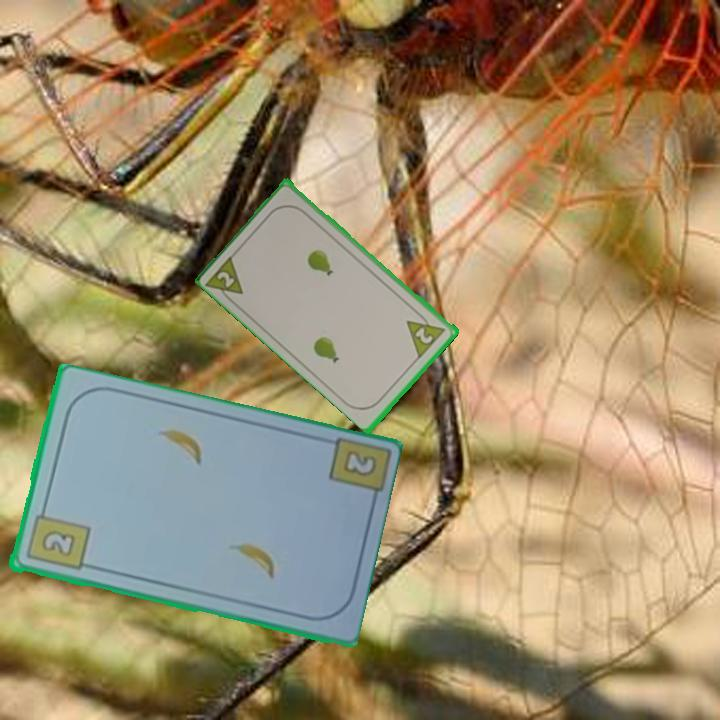2b: (22, 503, 92, 574), (339, 447, 380, 480)
2p: (203, 250, 247, 308), (403, 307, 449, 360)
